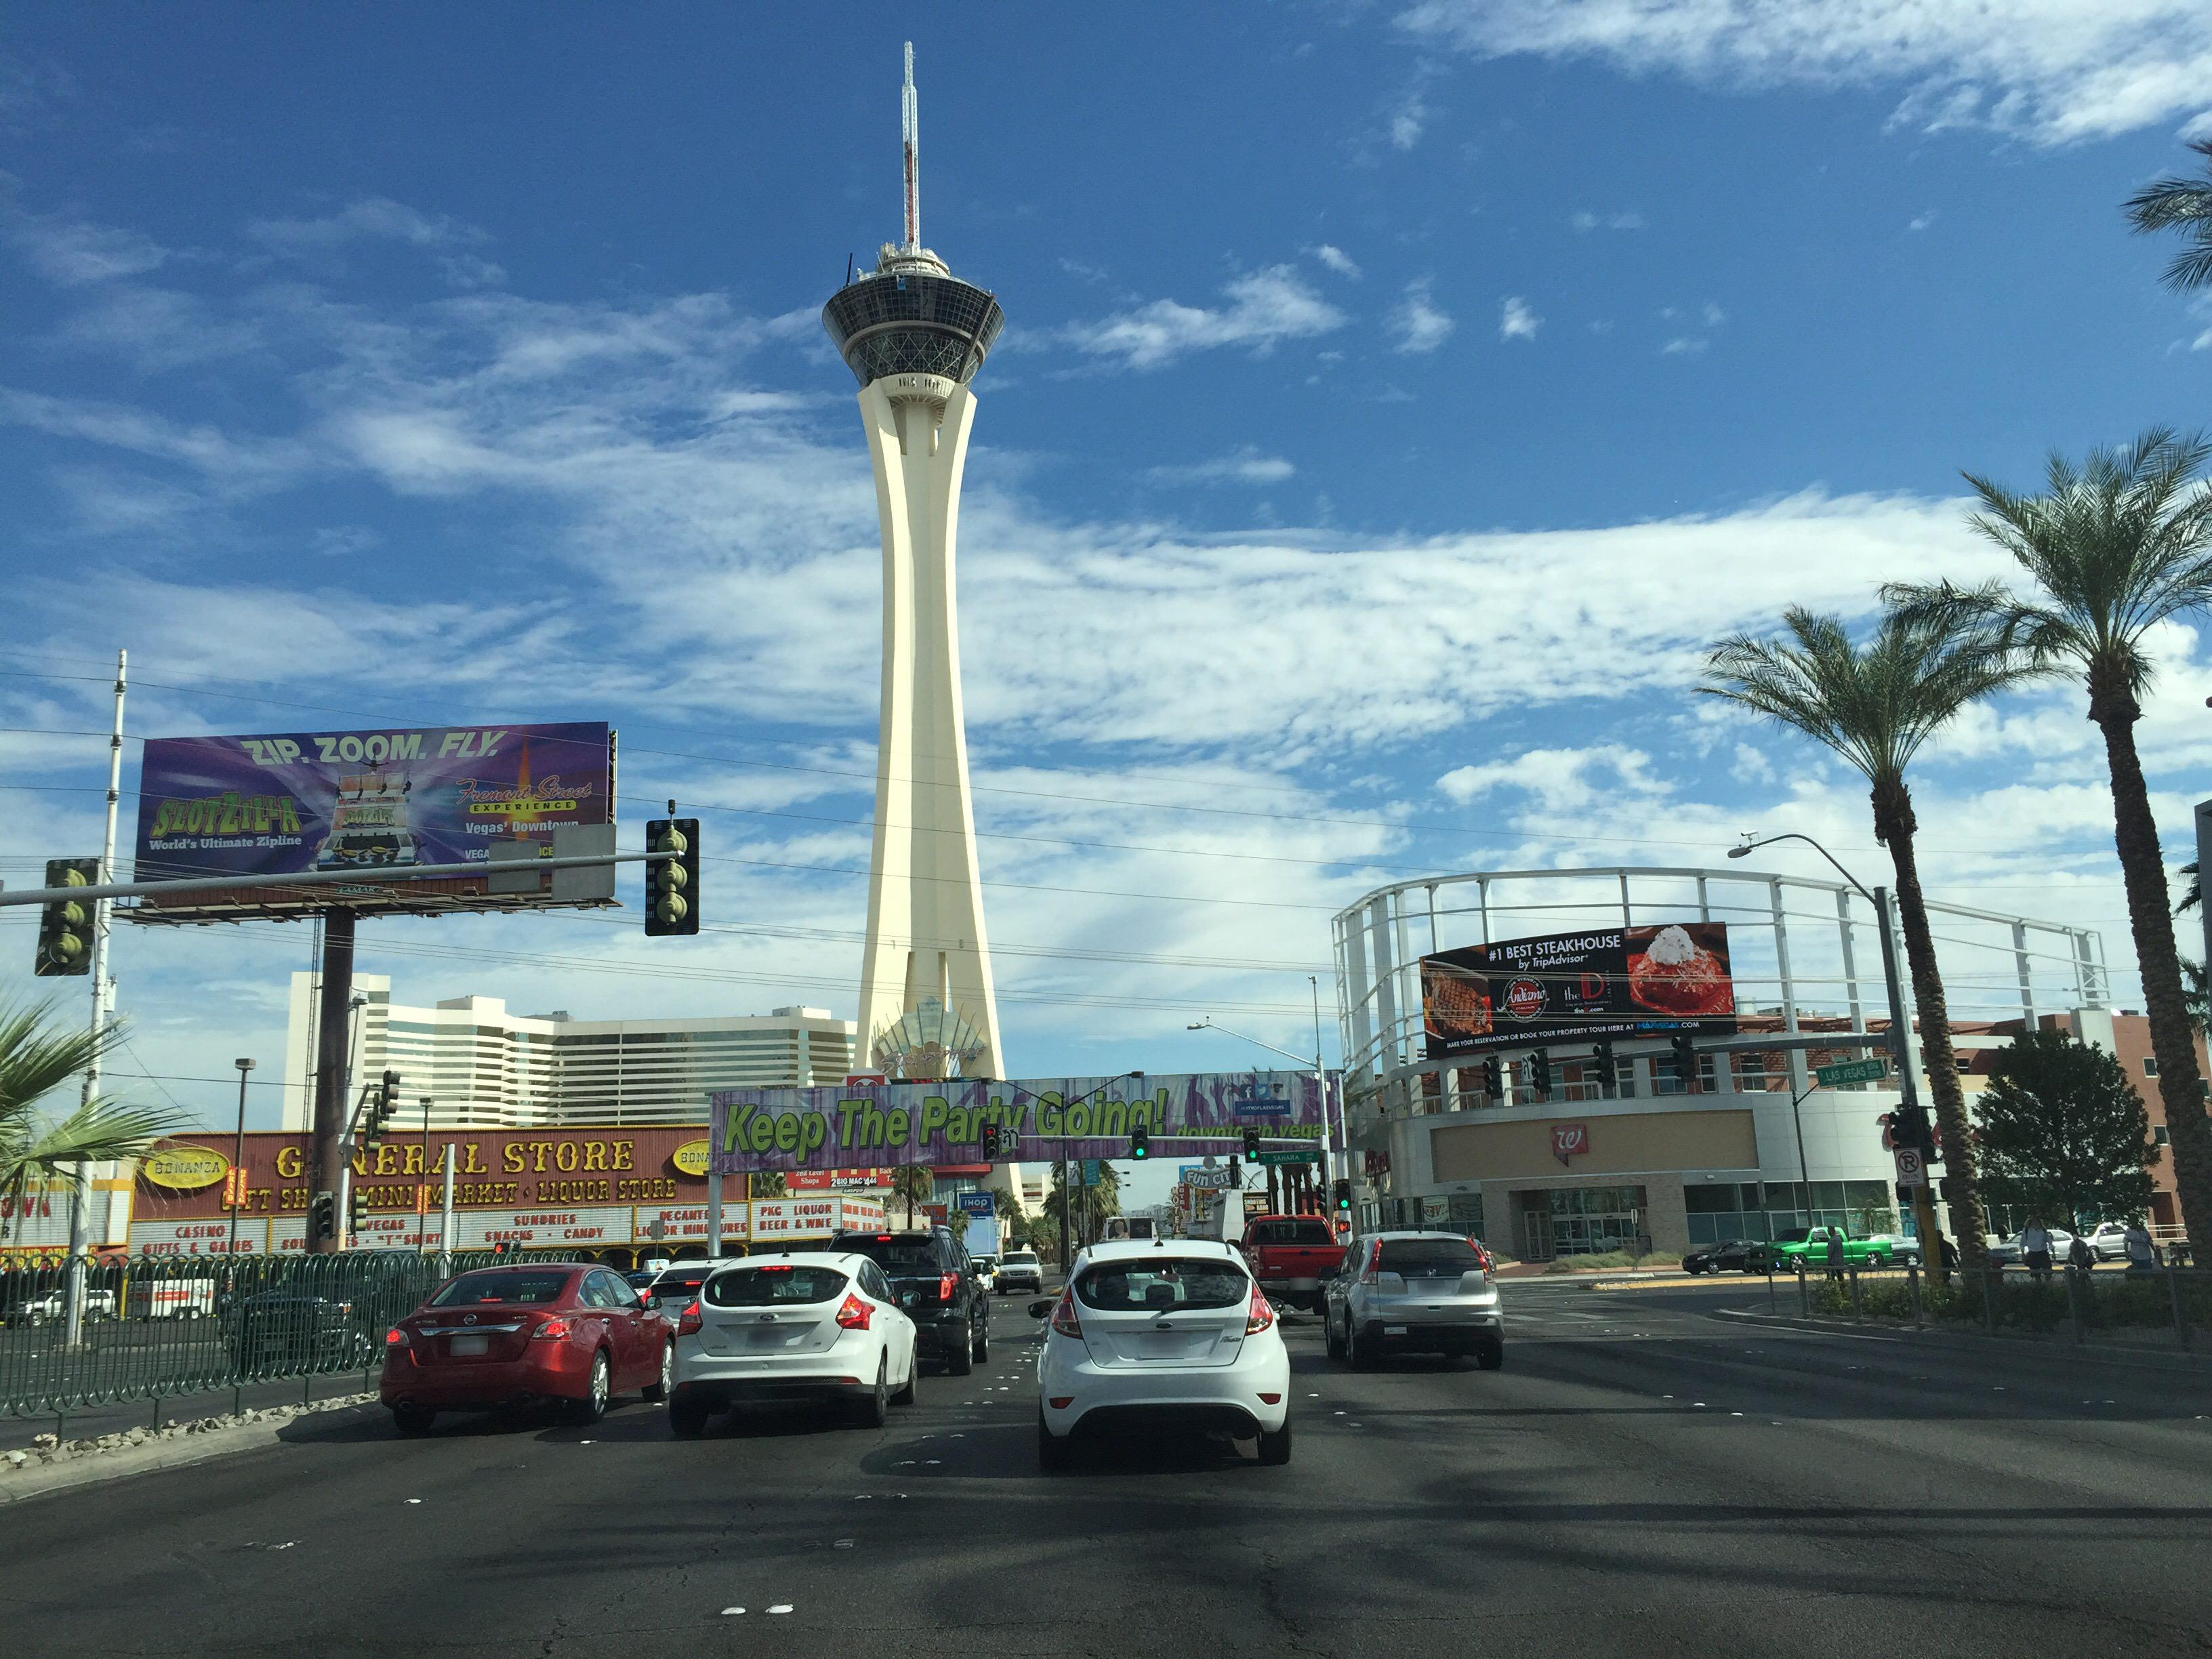vinyl banner: (698, 1053, 1357, 1187)
